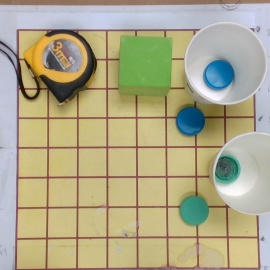blue: (175, 106, 204, 135)
cup_blue: (181, 22, 264, 110)
cup_green: (204, 132, 270, 215)
green: (179, 195, 210, 226)
